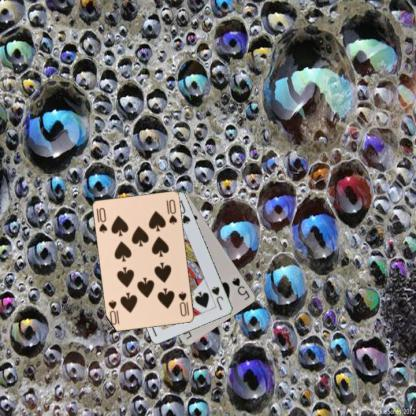10s: (176, 289, 190, 318), (96, 205, 108, 235)
5s: (230, 275, 252, 302)
Js: (209, 284, 225, 311)
